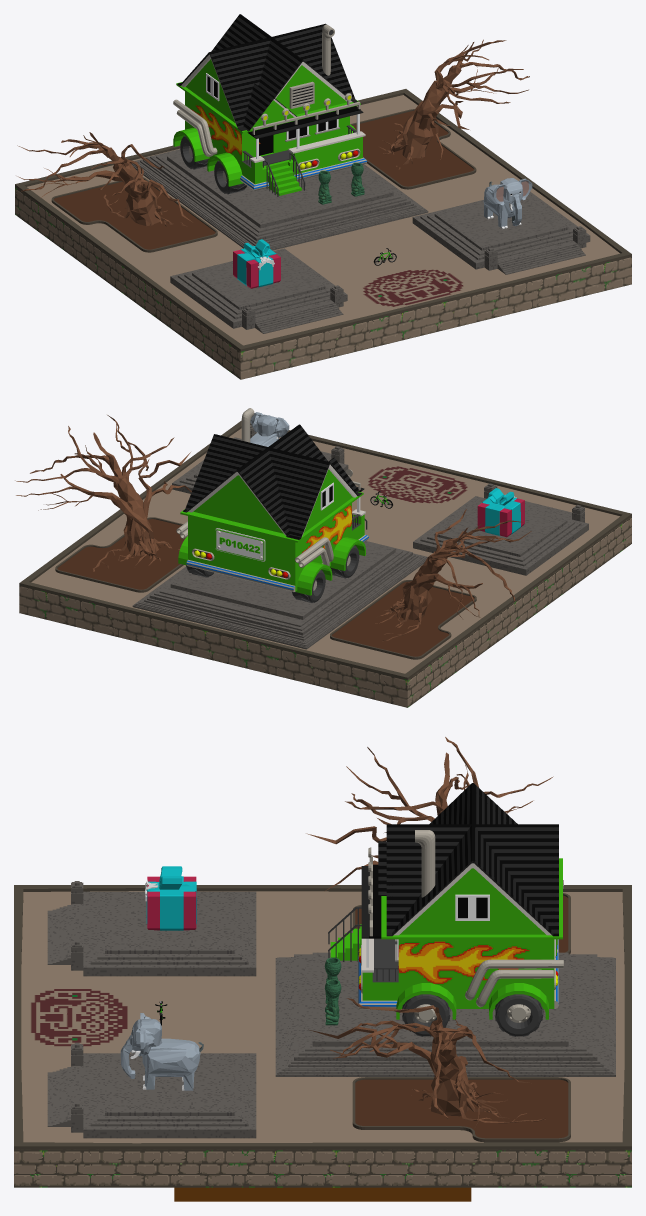
3 renders of one model, top to bottom at view 1: azimuth 30°, elevation 25°; view 2: azimuth 150°, elevation 25°; view 3: azimuth 270°, elevation 25°, orthographic. The views are drawn at different scales.
Visible parts, largest first — view 1: Cube.011, Cube.1474, OBJRANDOM_GIANT_PRESENT, ANIMAL_ELEFANTE; view 2: Cube.011, Cube.1474, OBJRANDOM_GIANT_PRESENT, ANIMAL_ELEFANTE; view 3: Cube.011, Cube.1474, UNDERGROUND_ART_PIECE_VAN_GOGH, ANIMAL_ELEFANTE, OBJRANDOM_GIANT_PRESENT.
Part boxes in pixels (x1,y1,x2,y2): Cube.011: (15,39,631,379); Cube.1474: (173,14,367,196); OBJRANDOM_GIANT_PRESENT: (233,239,280,288); ANIMAL_ELEFANTE: (483,178,532,228); Cube.011: (15,415,631,707); Cube.1474: (176,408,368,602); OBJRANDOM_GIANT_PRESENT: (477,488,524,537); ANIMAL_ELEFANTE: (250,412,289,446); Cube.011: (14,737,631,1187); Cube.1474: (328,783,563,1036); UNDERGROUND_ART_PIECE_VAN_GOGH: (174,1187,471,1201); ANIMAL_ELEFANTE: (120,1013,203,1090); OBJRANDOM_GIANT_PRESENT: (145,866,196,930).
Bounding box in the file's own units: 5099 × 2023 × 4000.
Materials: 36 (7 with a texture image).
